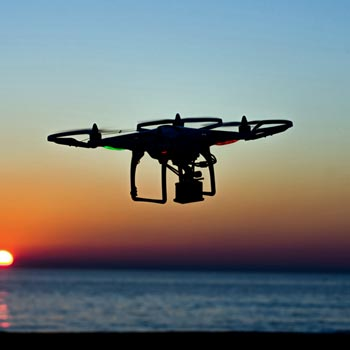drone: (43, 109, 297, 208)
